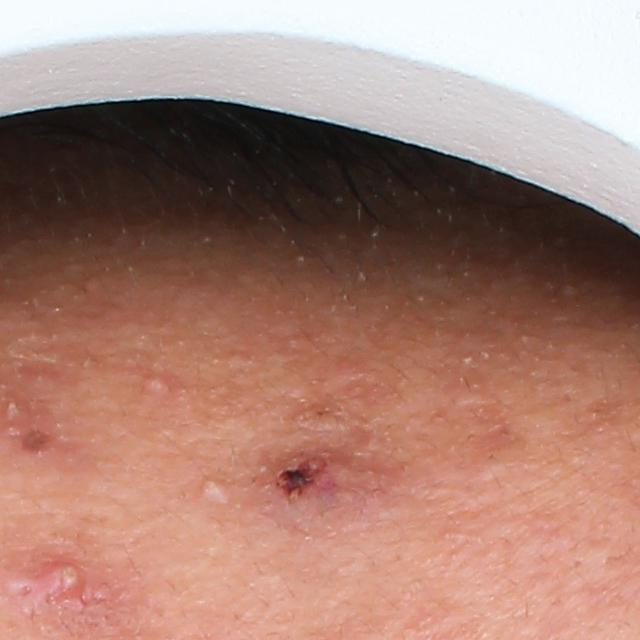comedo: (189, 474, 233, 501)
papule: (258, 438, 400, 525)
pustule: (20, 554, 102, 629)
